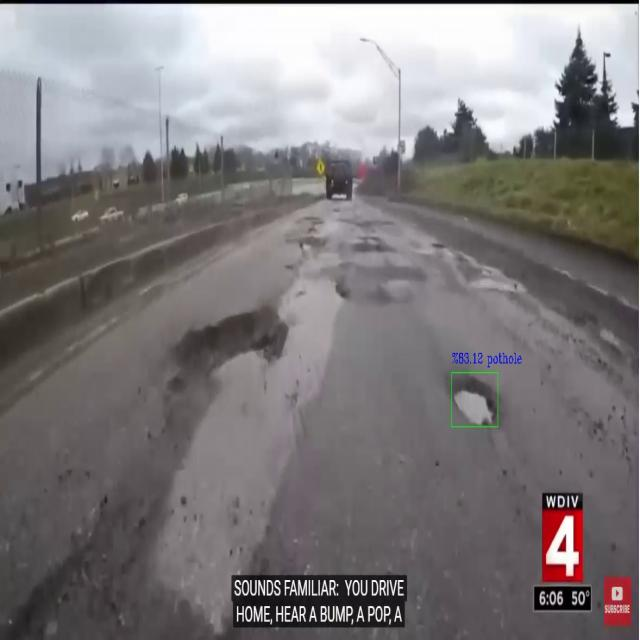pothole: (454, 376, 496, 425)
